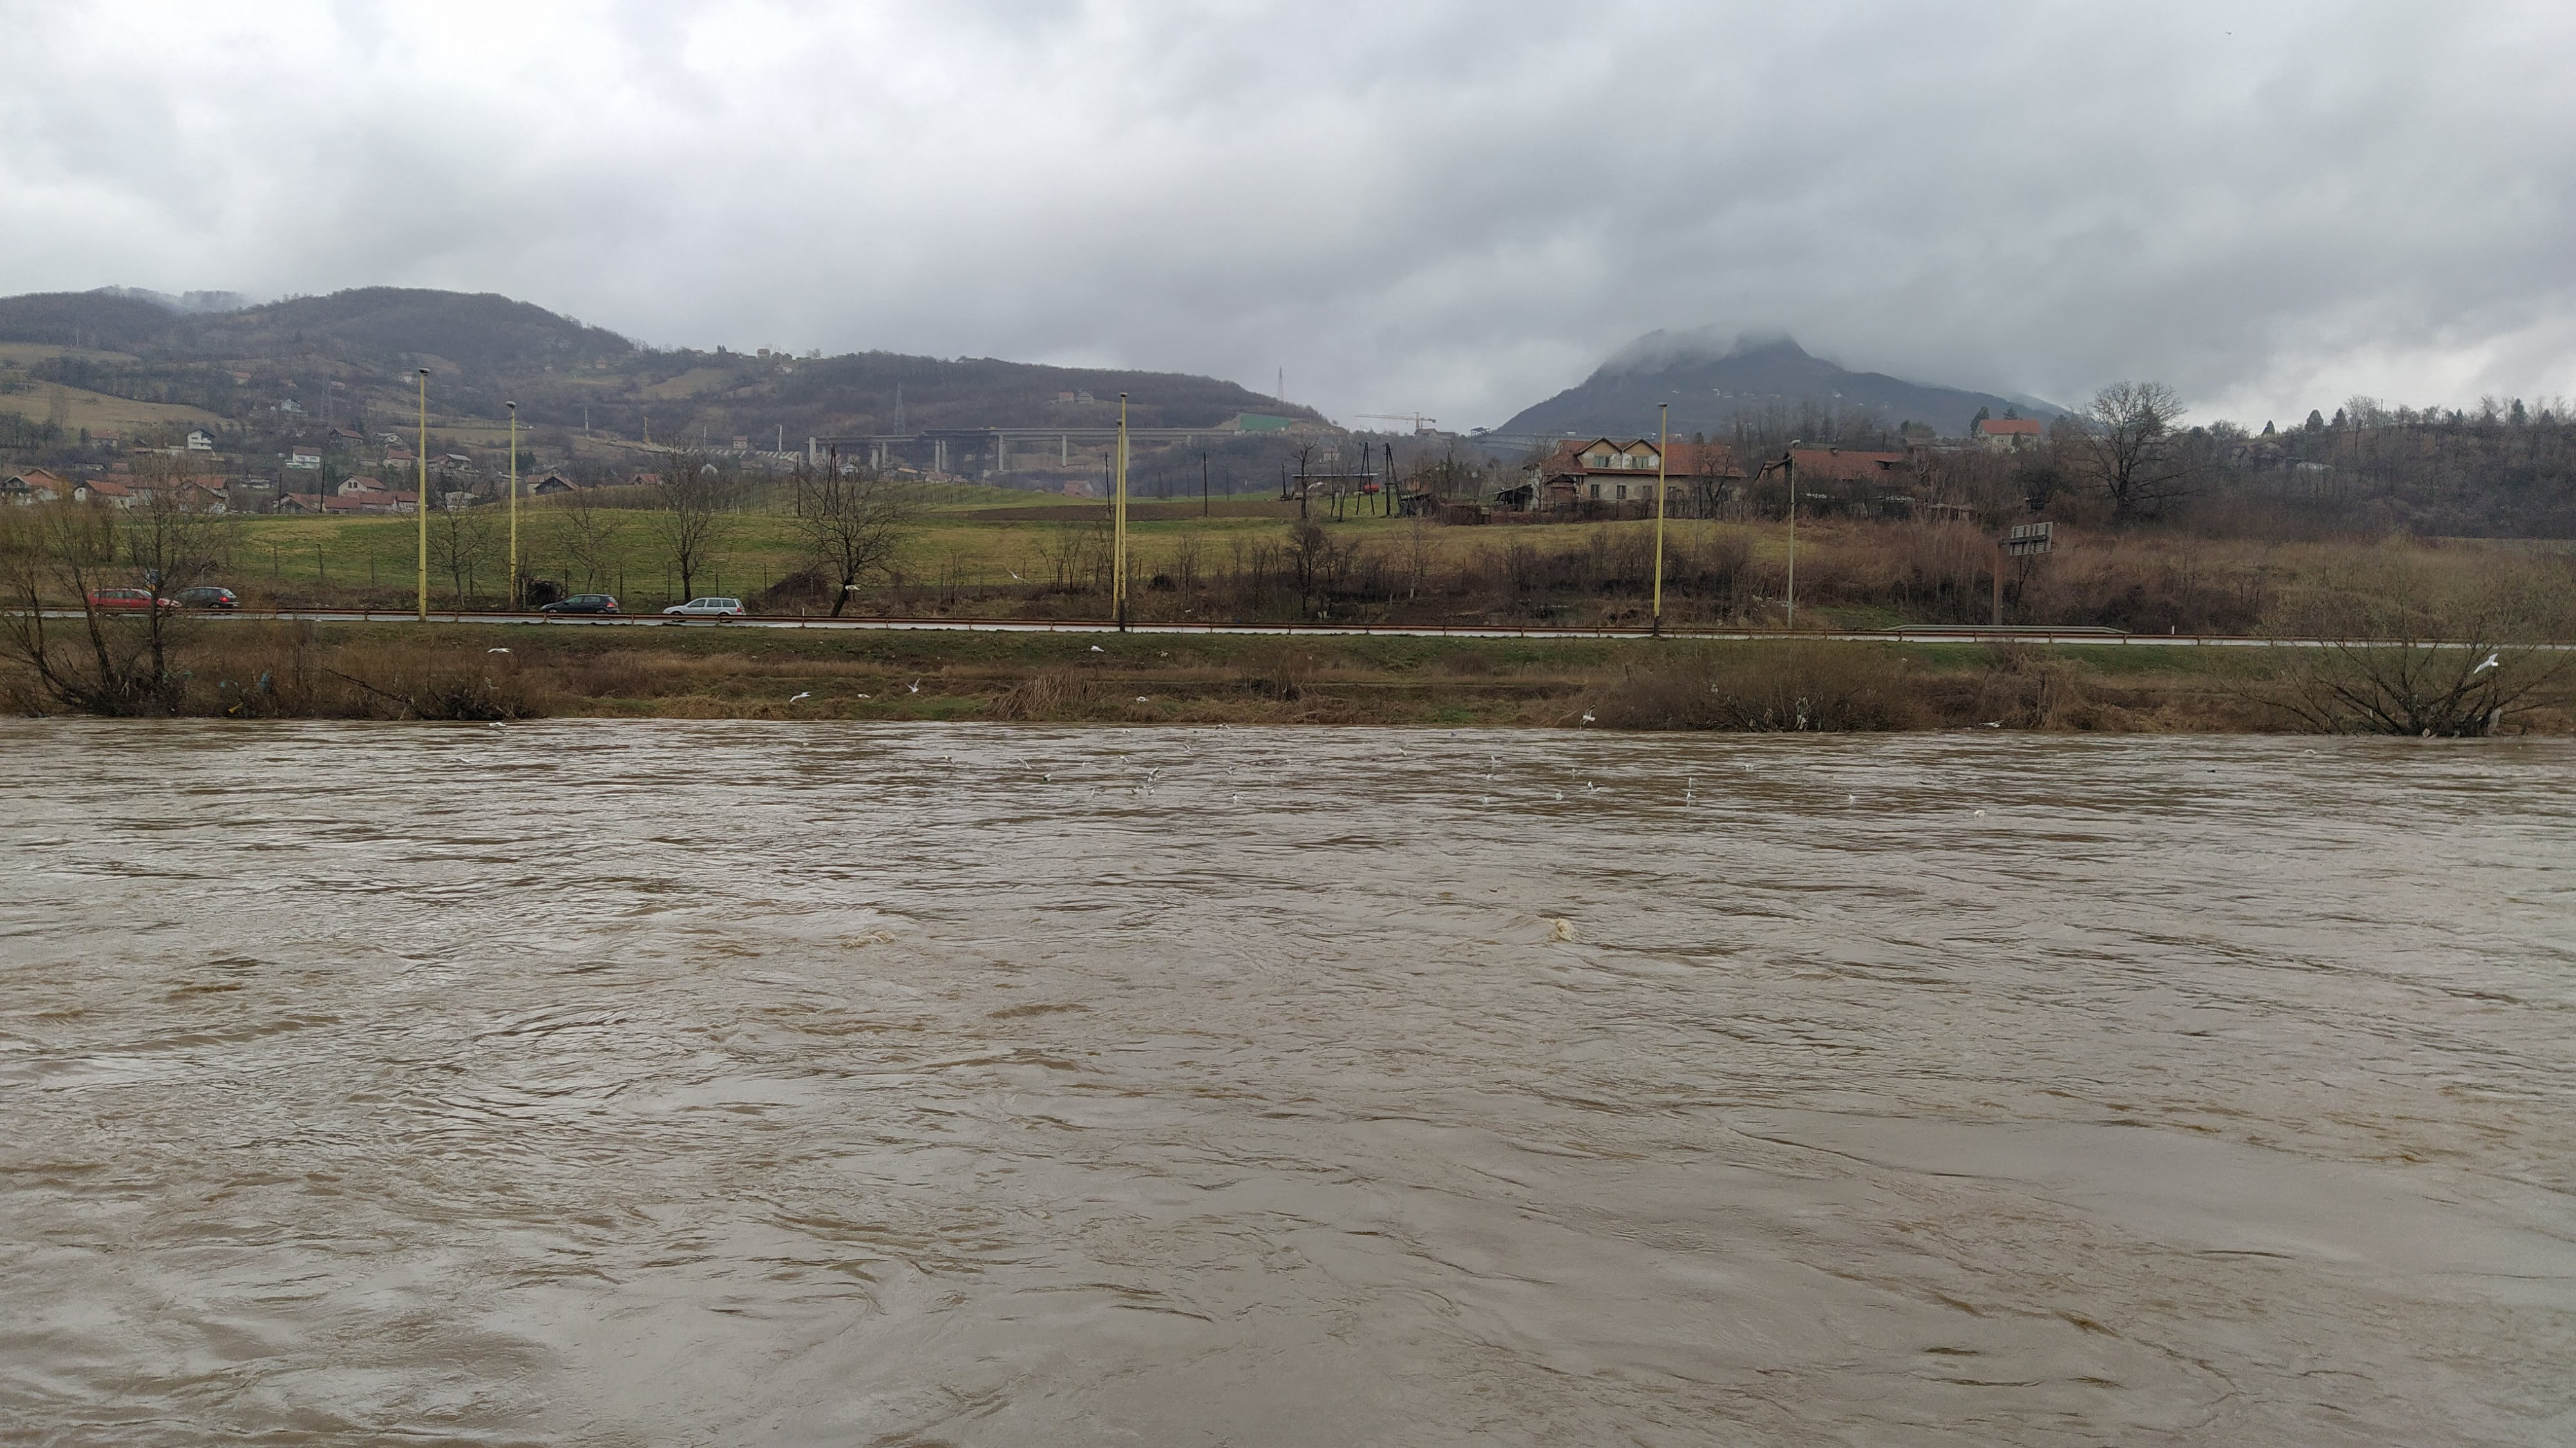Plastic Bottle: (1974, 809, 1983, 816), (488, 722, 504, 726), (1044, 772, 1051, 779), (2208, 768, 2215, 772)
